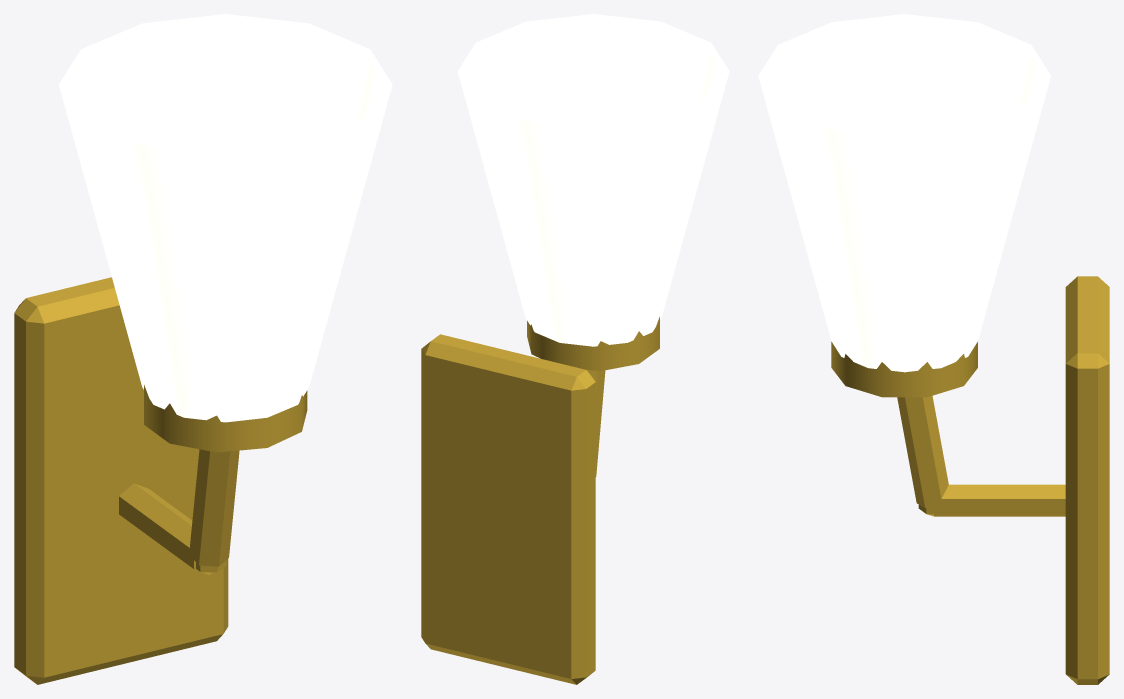
File: wall_lamp.glb
3 renders of one model, left to right at view 1: azimuth 30°, elevation 25°; view 2: azimuth 150°, elevation 25°; view 3: azimuth 270°, elevation 25°, orthographic. The views are drawn at different scales.
Parts seen in each view (by area): view 1: wall_lamp; view 2: wall_lamp; view 3: wall_lamp.
Part boxes in pixels (x1,y1,x2,y2): wall_lamp: (14, 14, 392, 684); wall_lamp: (421, 14, 729, 684); wall_lamp: (758, 14, 1109, 684).
Size of the model in its own units: 0.2 by 0.43 by 0.24.
